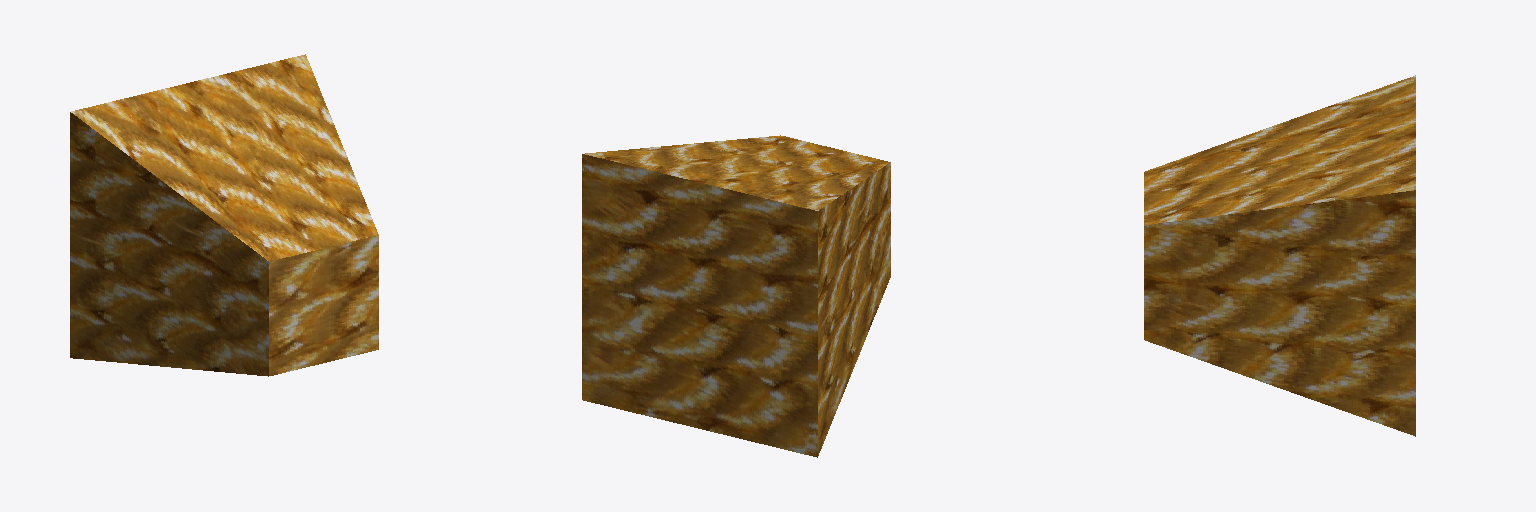
The picture shows the model from 3 angles: view 1: azimuth 30°, elevation 25°; view 2: azimuth 150°, elevation 25°; view 3: azimuth 270°, elevation 25°; orthographic projection.
Visible parts, largest first — view 1: Cube; view 2: Cube; view 3: Cube.
Boxes of the visible parts, x1=… form: Cube: x1=70, y1=54, x2=378, y2=376; Cube: x1=582, y1=135, x2=890, y2=457; Cube: x1=1144, y1=75, x2=1415, y2=436.
Size of the model in its own units: 0.5 by 0.5 by 0.5.
Materials: 1 (1 with a texture image).